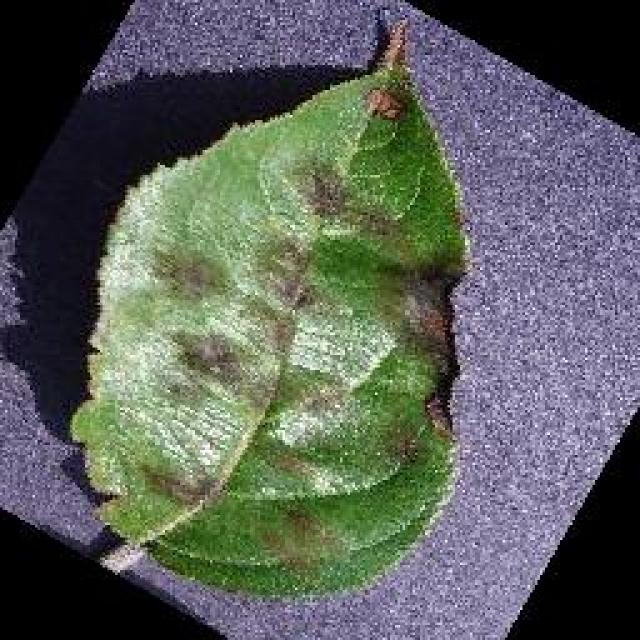apple scab disease: (68, 15, 472, 600)
